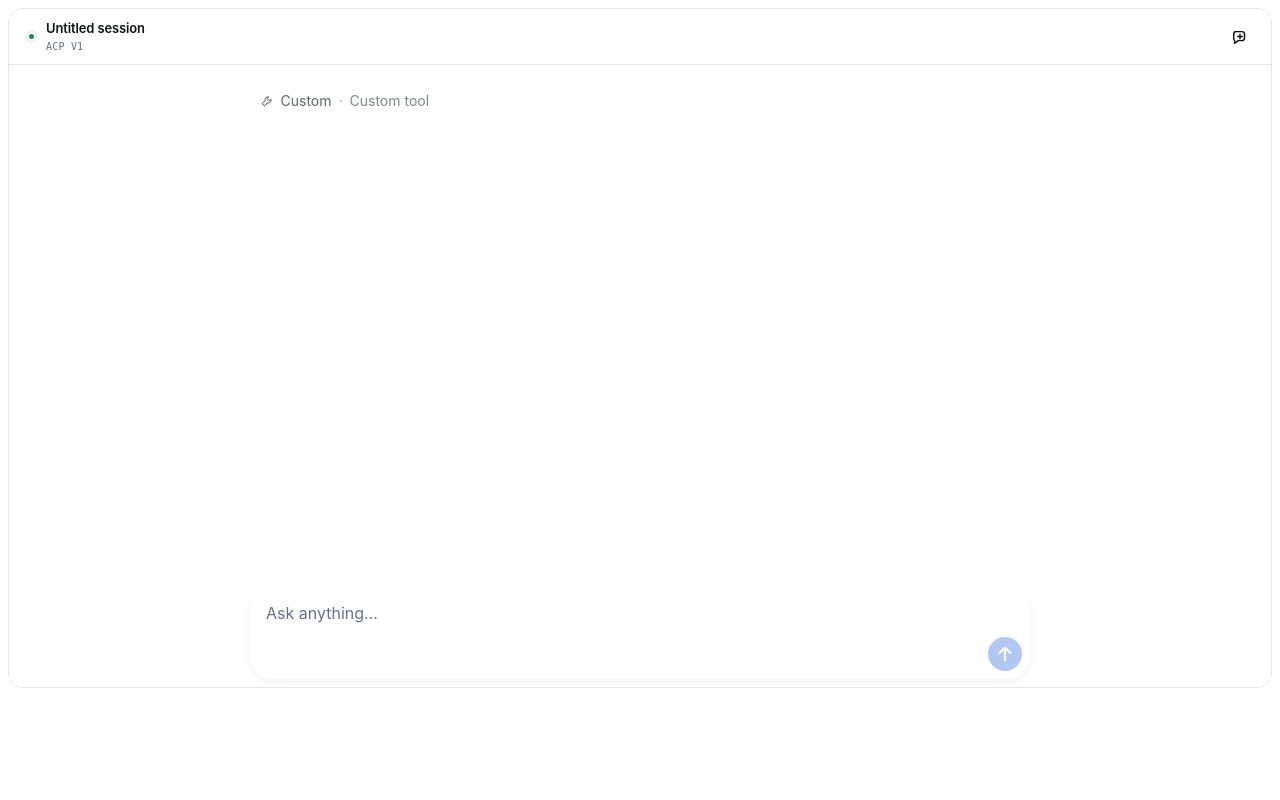
Test: Tool rendering seam › falls back to bounded raw tool input and output
Click the text "Custom tool" at (389, 100), box [350,92,429,109]
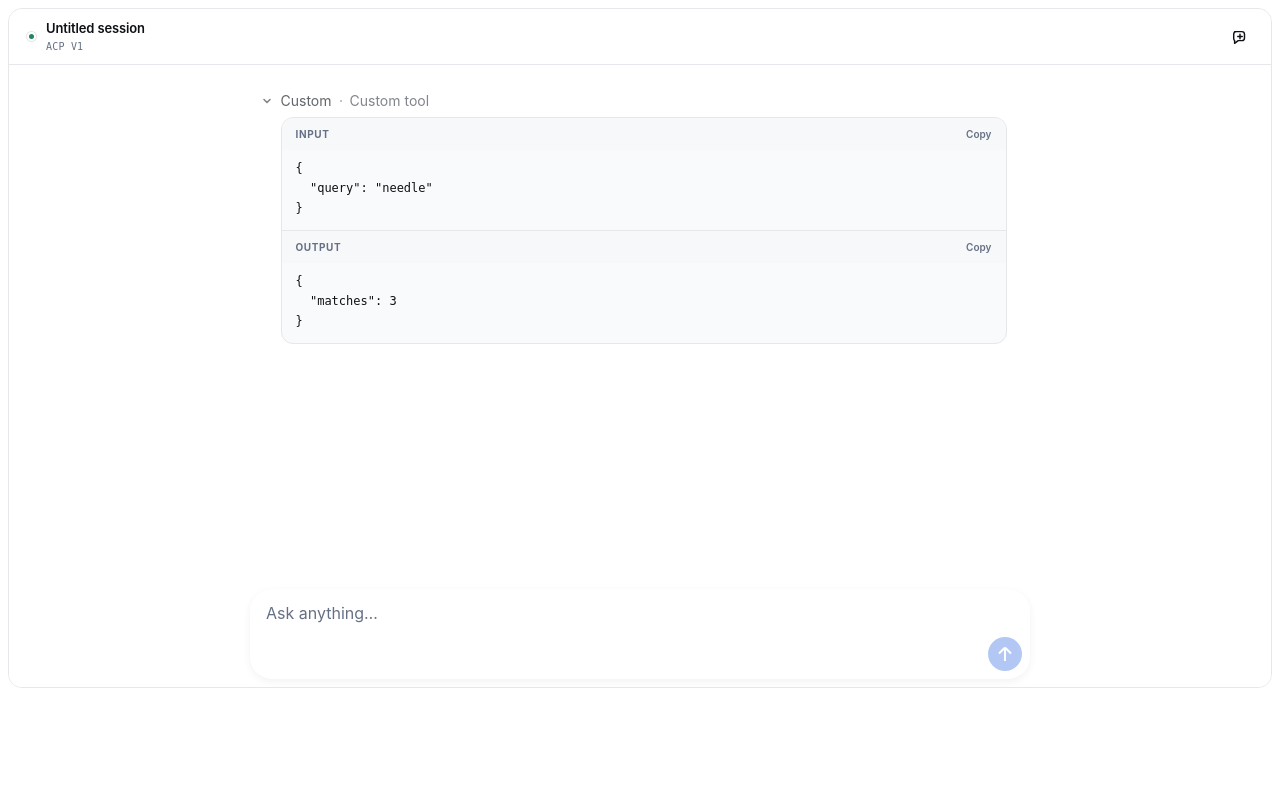
Expected: the text "Input" is shown, [296,125,329,143]
Expected: the text "{ \"query\": \"needle\" }" is shown, [296,161,433,215]
Expected: the text "Output" is shown, [296,238,341,256]
